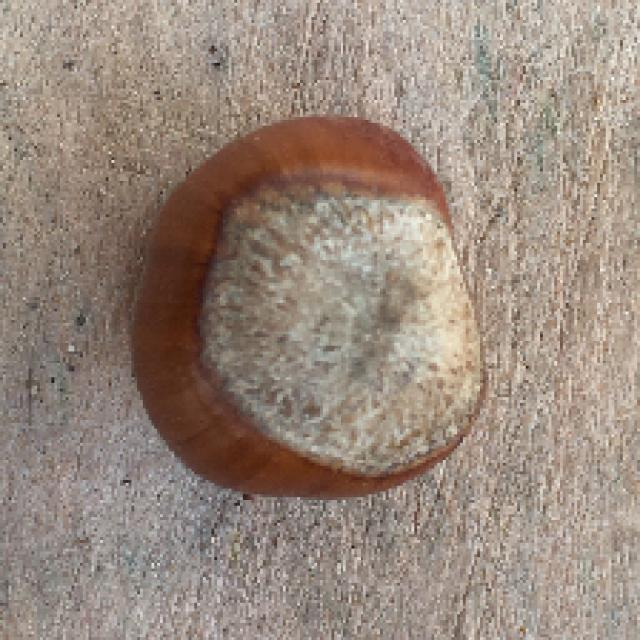qualityHazelnut: (130, 113, 493, 499)
